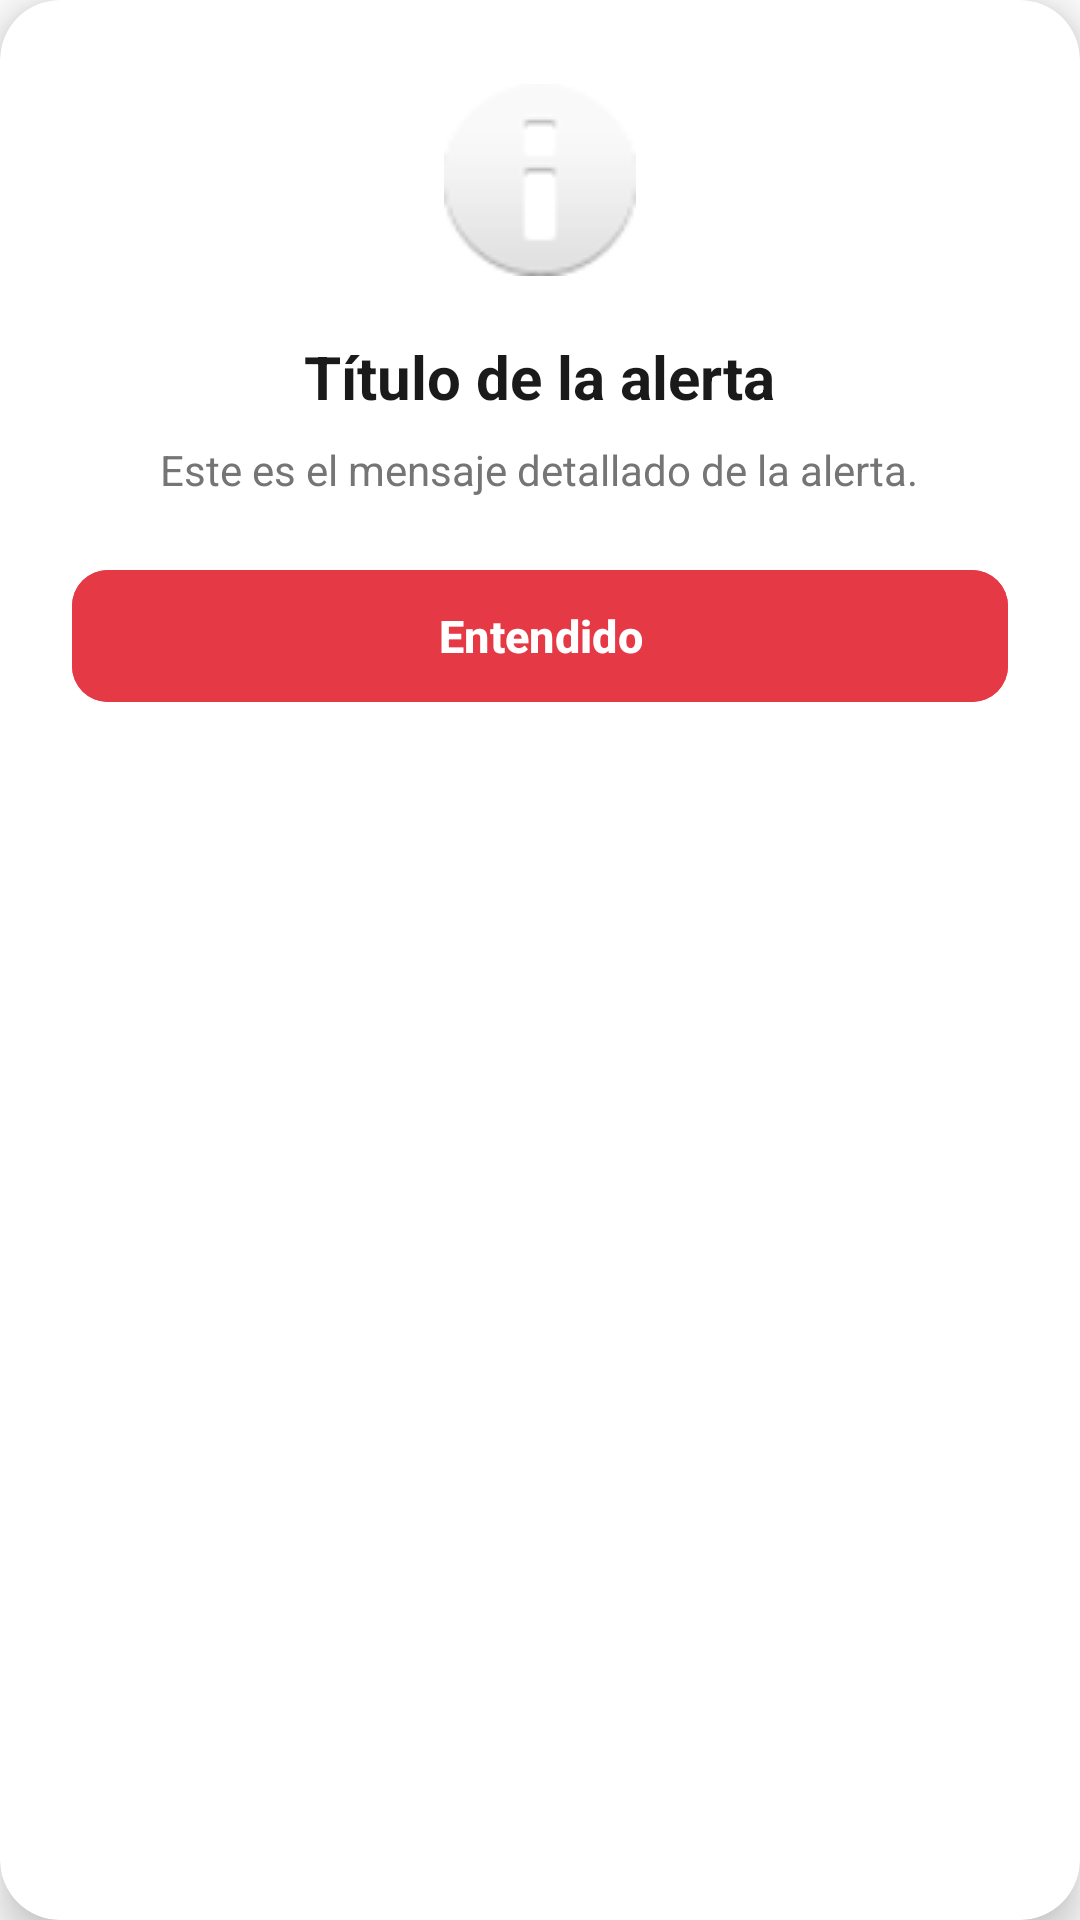

Icon click points for this 1080×1920 phone screenshot, format (x=x, y=y):
info: (x=540, y=197)
